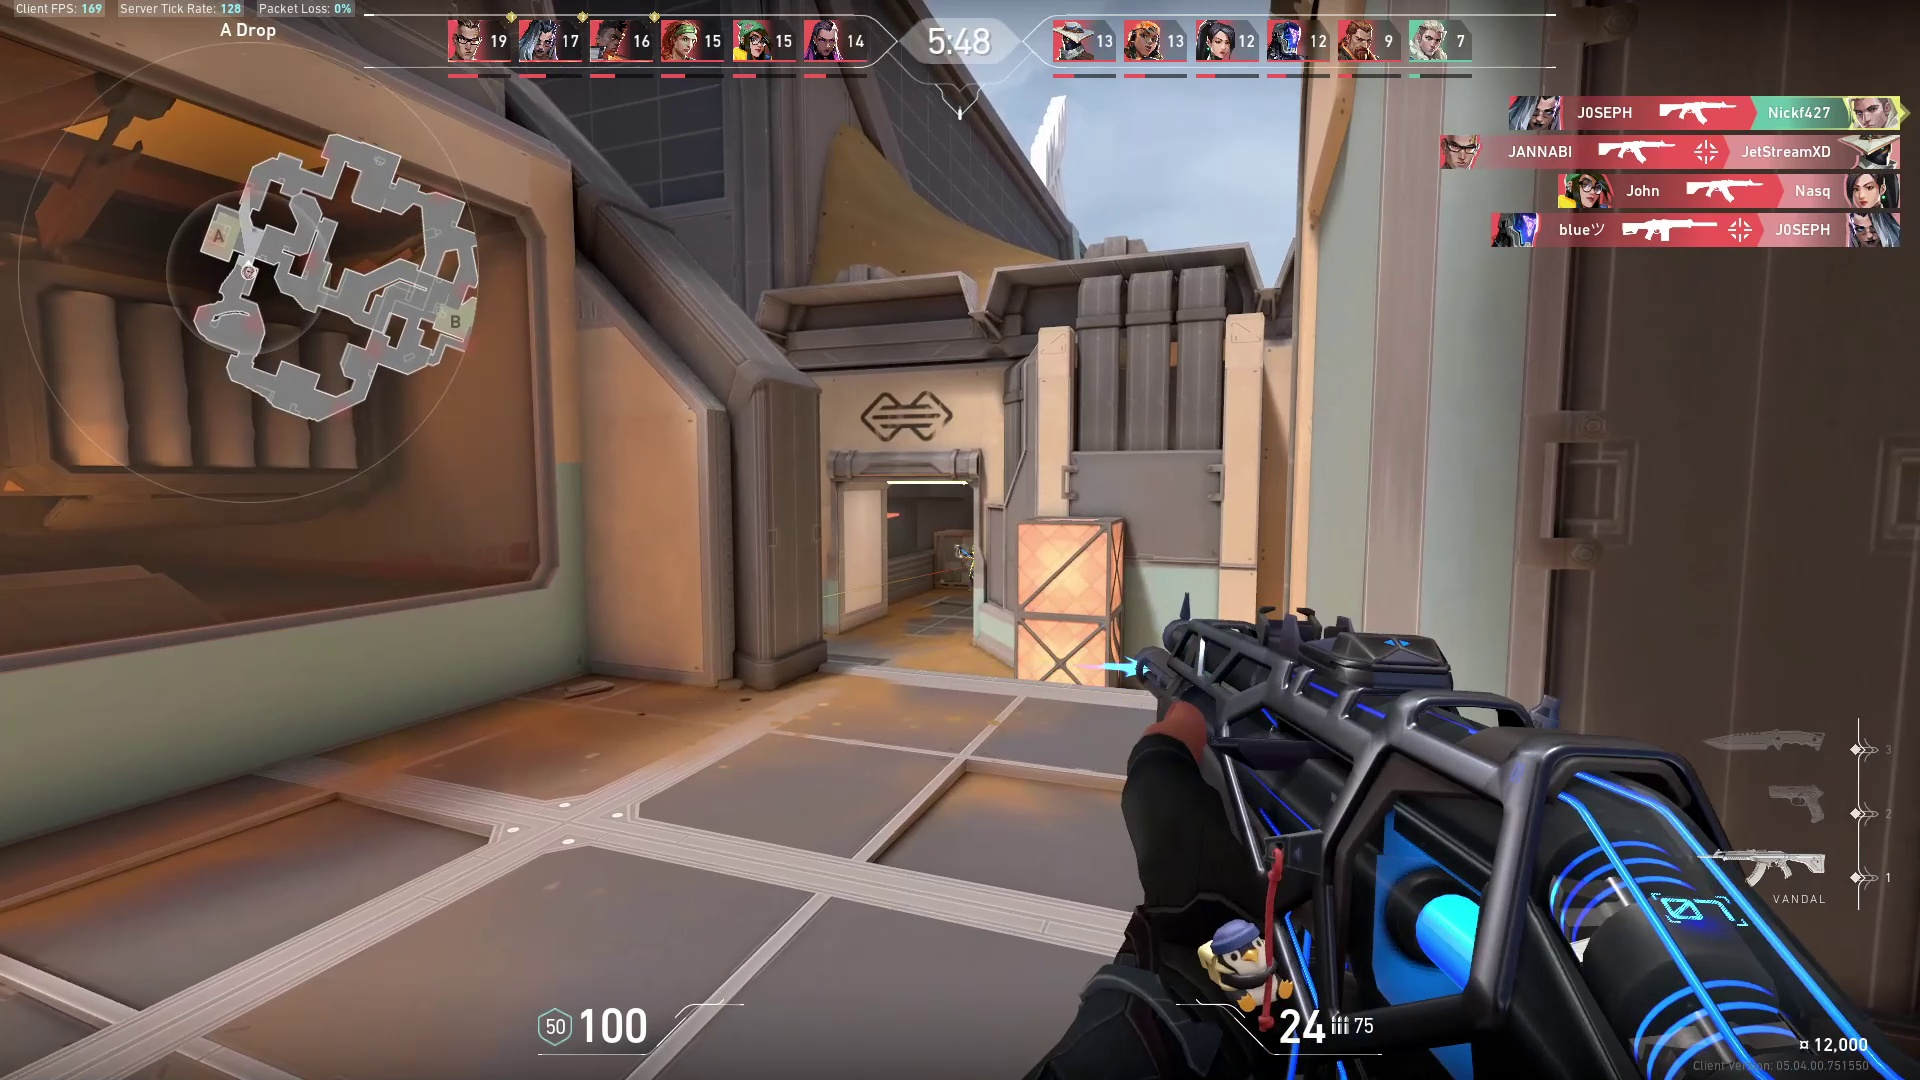enemy_body: (961, 554, 975, 592)
enemy_head: (971, 543, 975, 554)
